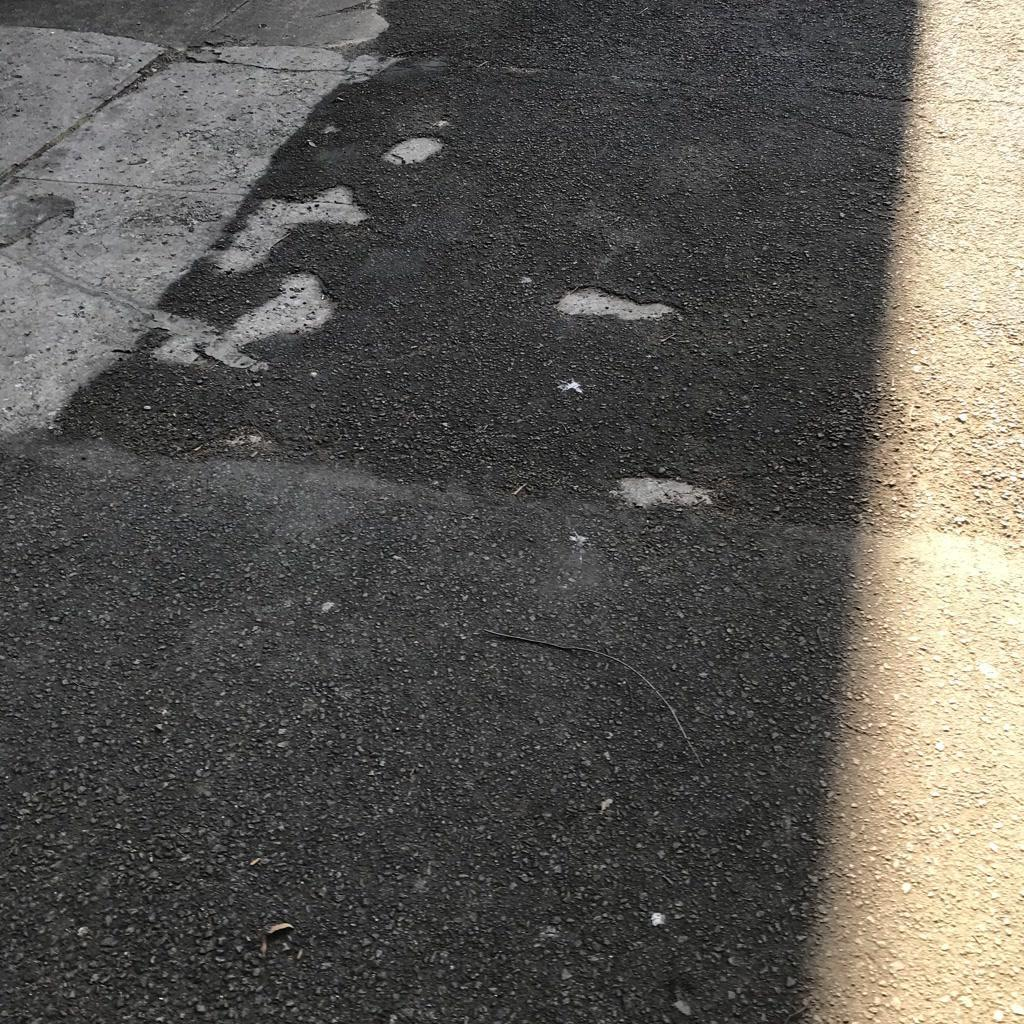pothole: (155, 268, 344, 354), (224, 175, 385, 260), (606, 455, 749, 518), (542, 275, 693, 326), (384, 126, 445, 167)
